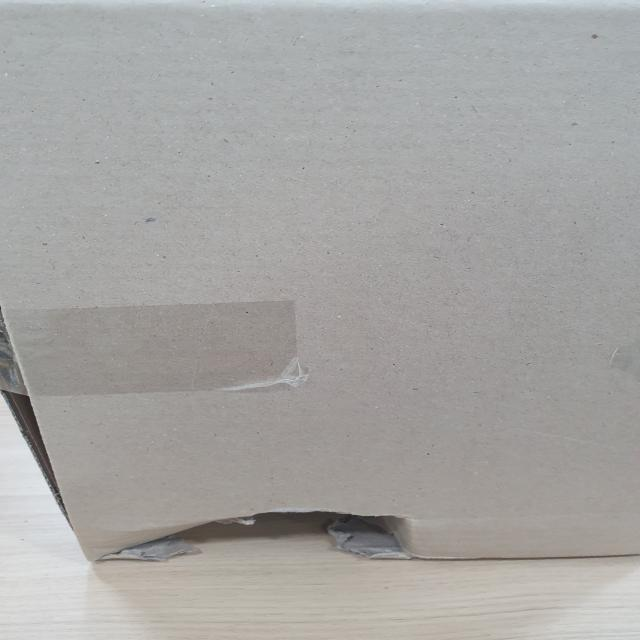hole: (104, 503, 432, 563)
